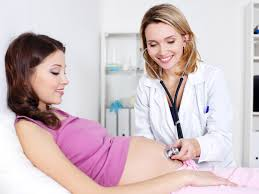Bad: (5, 3, 259, 194)
